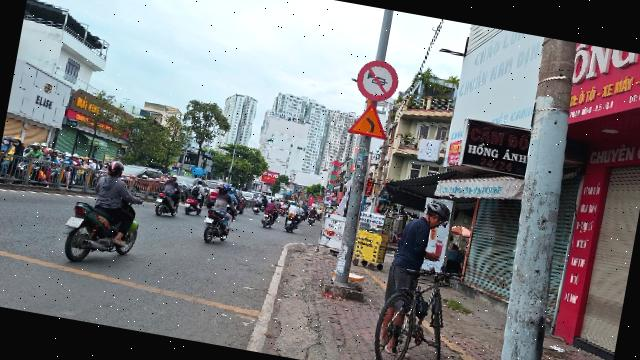cam-bop-coi: (354, 56, 402, 105)
cho-ngoat-nguy-hiem-ben-trai: (347, 99, 392, 140)
